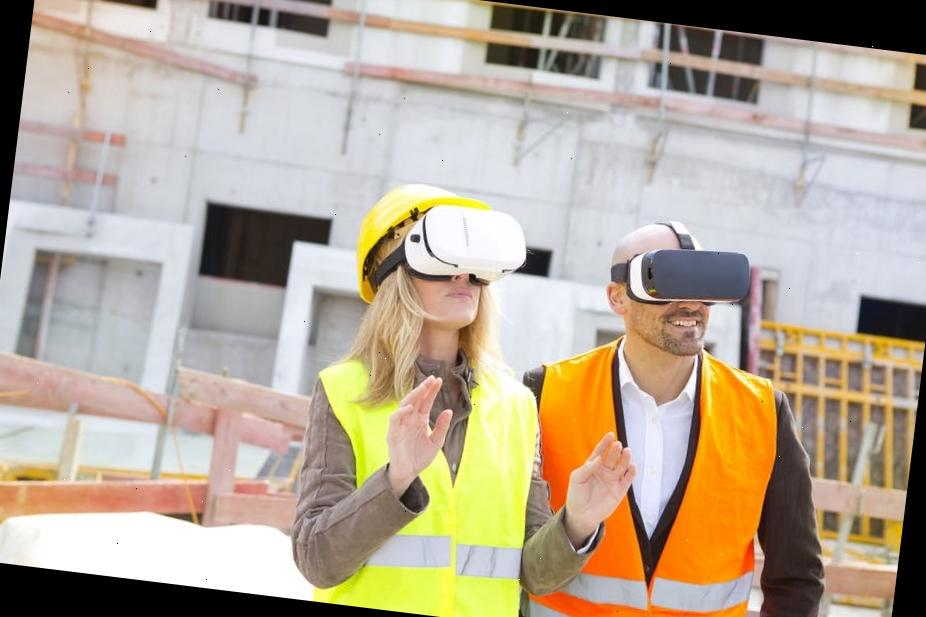helmet: (351, 175, 494, 318), (607, 215, 710, 279)
wear: (512, 342, 780, 617), (293, 355, 551, 617)
